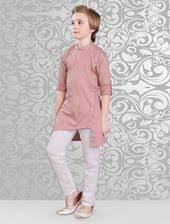Human: (40, 4, 129, 217)
